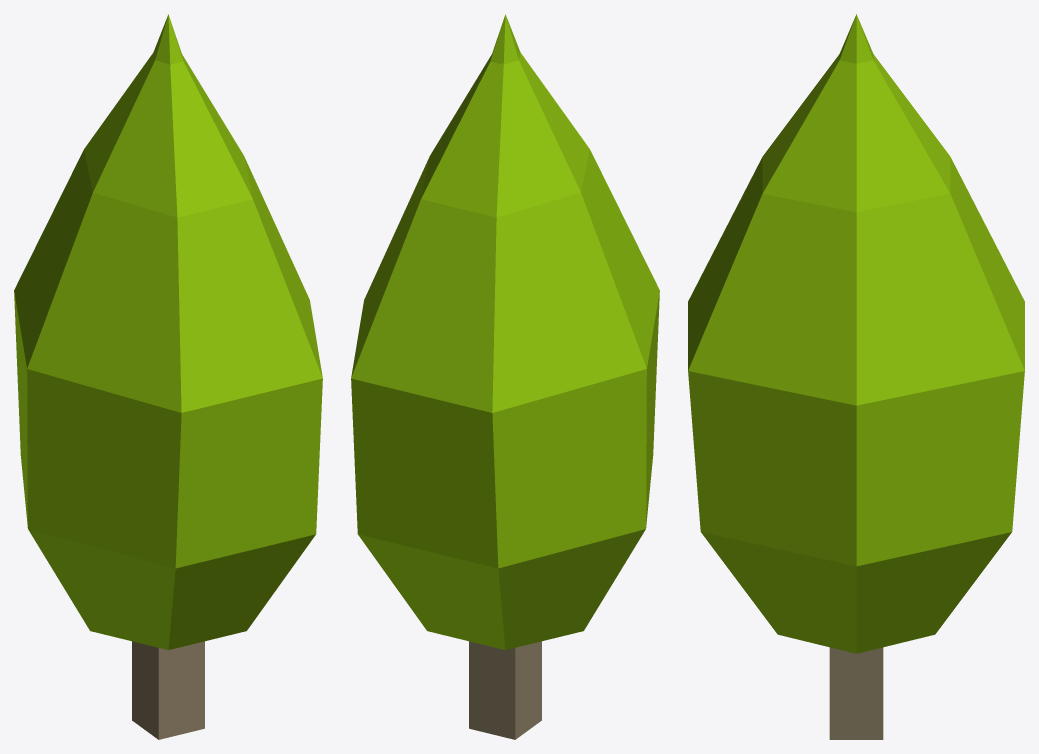
File: tree_cone_4.fbx
3 views of the same model, side by side, from view 1: azimuth 30°, elevation 25°; view 2: azimuth 150°, elevation 25°; view 3: azimuth 270°, elevation 25° (orthographic).
Visible parts, largest first — view 1: tree_cone_4; view 2: tree_cone_4; view 3: tree_cone_4.
Boxes of the visible parts, box(x1,y1,x2,y2) form: tree_cone_4: box(14, 14, 322, 739); tree_cone_4: box(351, 14, 659, 739); tree_cone_4: box(688, 14, 1024, 739).
Bounding box in the file's own units: 74.86 × 180 × 76.8.
